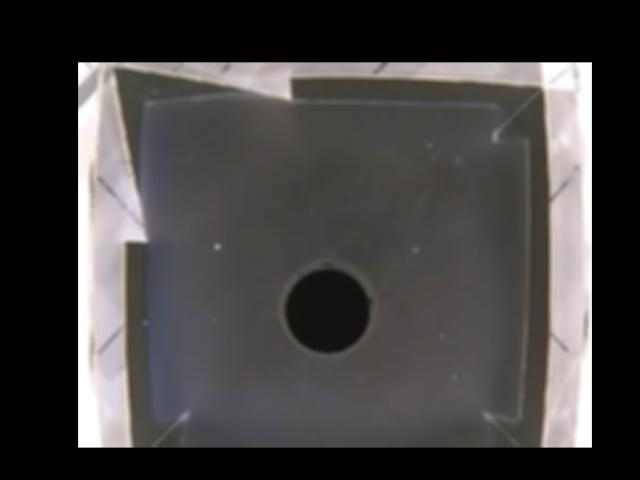Bottle: (278, 259, 375, 355)
